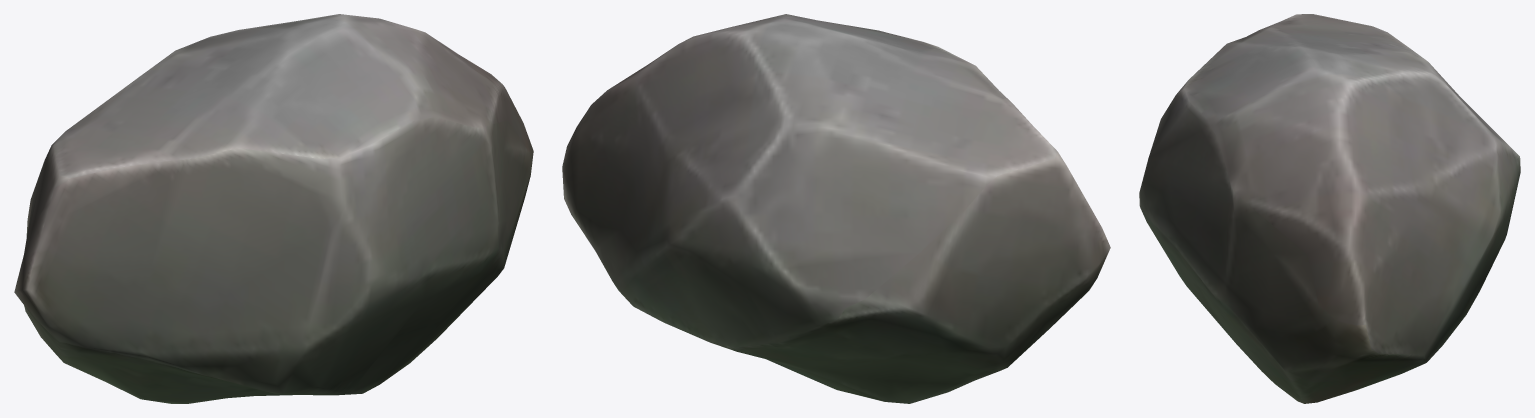
The model's file is stylized-rock-02.glb.
3 renders of one model, left to right at view 1: azimuth 30°, elevation 25°; view 2: azimuth 150°, elevation 25°; view 3: azimuth 270°, elevation 25°, orthographic. The views are drawn at different scales.
Parts seen in each view (by area): view 1: Small_5; view 2: Small_5; view 3: Small_5.
Boxes of the visible parts, x1,y1,x2,y2 form: Small_5: (14,14,533,403); Small_5: (562,14,1110,403); Small_5: (1139,14,1520,403).
Size of the model in its own units: 3.31 by 2.1 by 2.27.
Materials: 1 (1 with a texture image).
